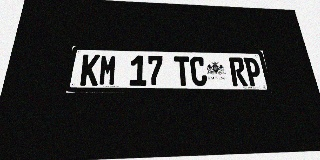1: (129, 55, 146, 86)
7: (147, 56, 163, 86)
C: (190, 57, 208, 86)
K: (80, 54, 100, 86)
M: (98, 55, 117, 86)
P: (243, 58, 263, 86)
R: (228, 57, 248, 86)
T: (174, 56, 191, 86)
